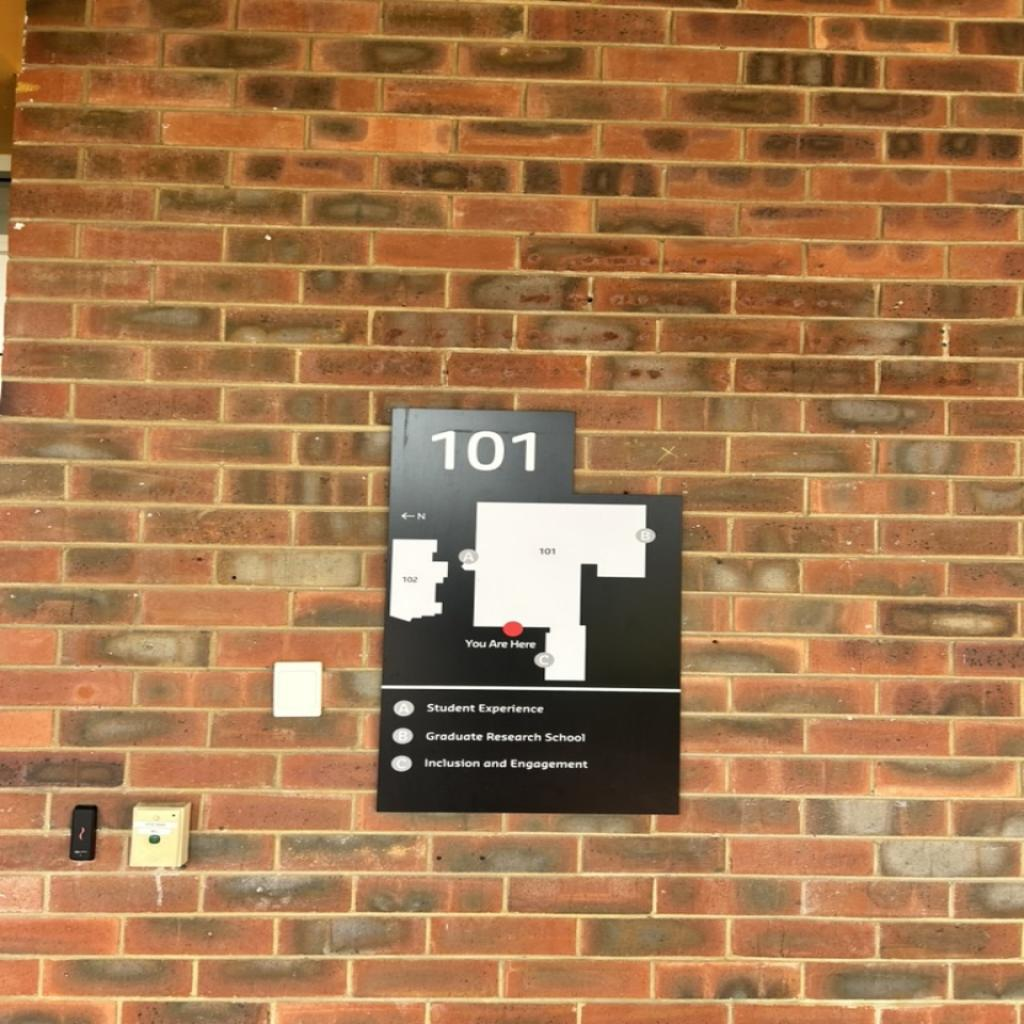BuildingCodes: (430, 426, 538, 472)
